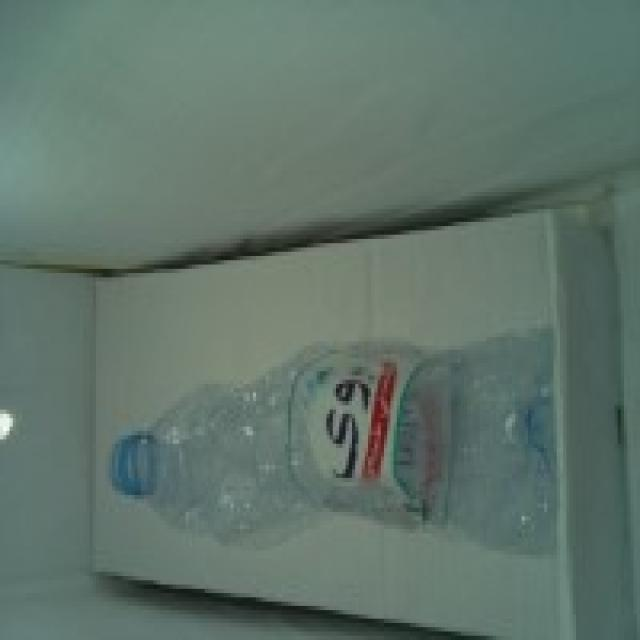Anorganik: (106, 328, 554, 542)
